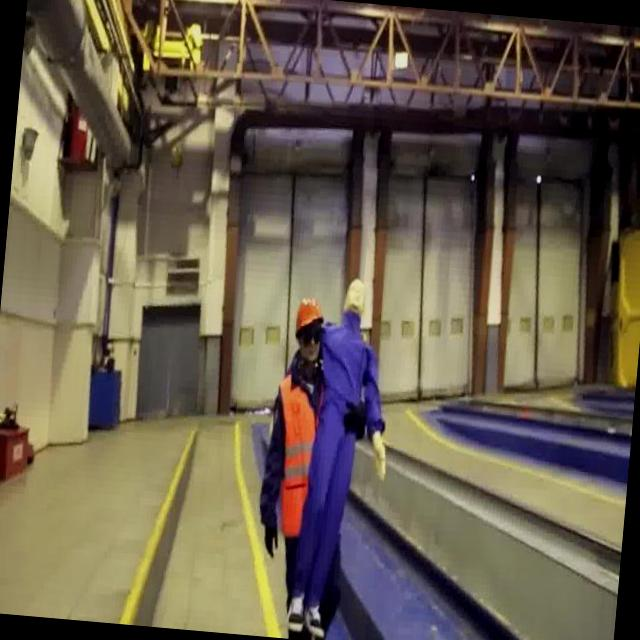helmet: (294, 295, 322, 337)
no-boots: (273, 588, 328, 640)
vest: (264, 366, 321, 539)
